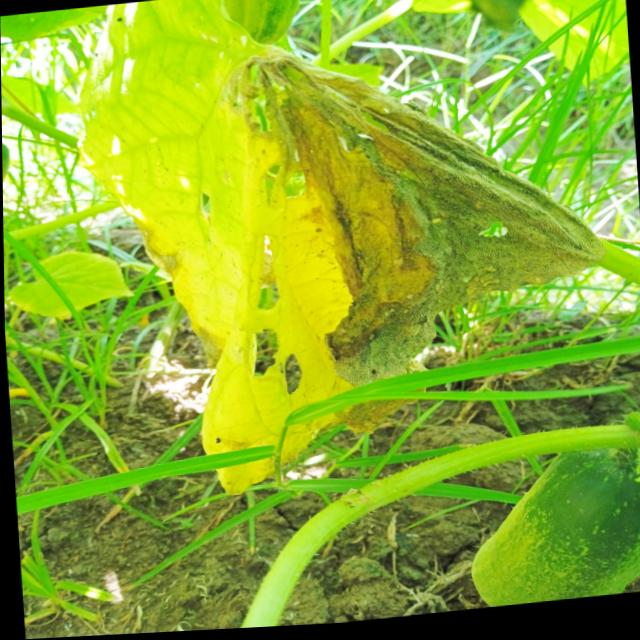Gummy-Stem-Blight: (241, 50, 600, 395)
